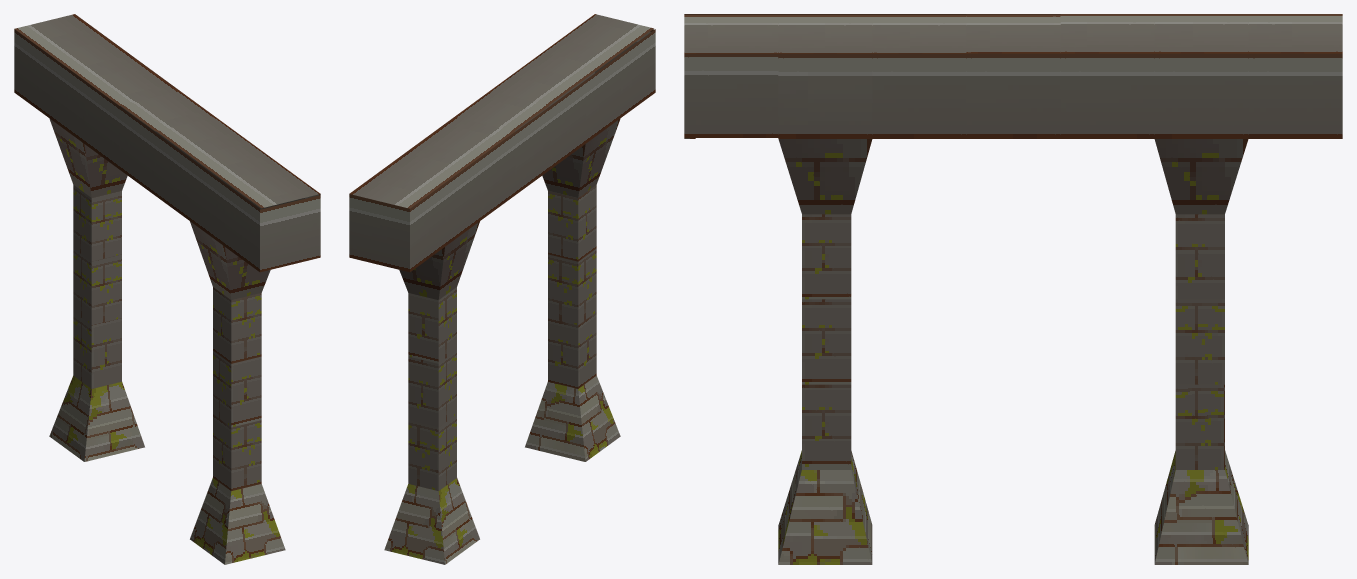
File: Archway16.gltf
3 renders of one model, left to right at view 1: azimuth 30°, elevation 25°; view 2: azimuth 150°, elevation 25°; view 3: azimuth 270°, elevation 25°, orthographic. The views are drawn at different scales.
Visible parts, largest first — view 1: mesh; view 2: mesh; view 3: mesh.
Part boxes in pixels (x1,y1,x2,y2): mesh: (14,14,320,564); mesh: (349,14,655,564); mesh: (684,14,1342,564).
Size of the model in its own units: 1 by 6 by 7.
1 material, 1 textured.
